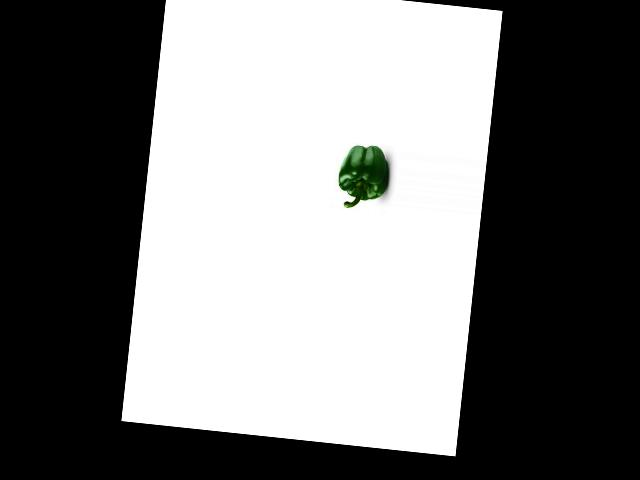bell_pepper: (334, 140, 390, 212)
